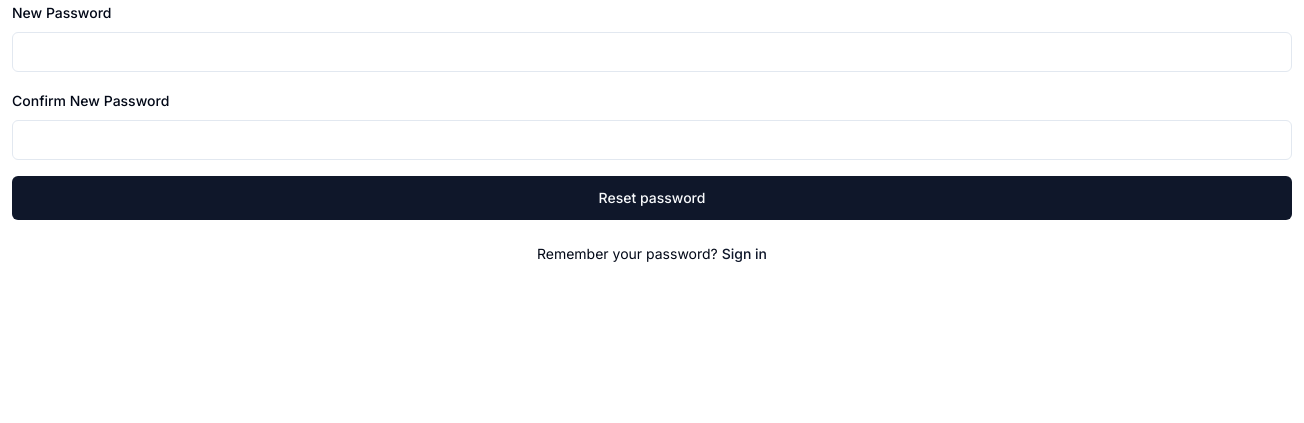
Test case: ResetPasswordForm › Loading State › disables form inputs during submission
Type "NewPassword123!" into the password field with test id "password" at x=652, y=52, box [12,32,1292,72]
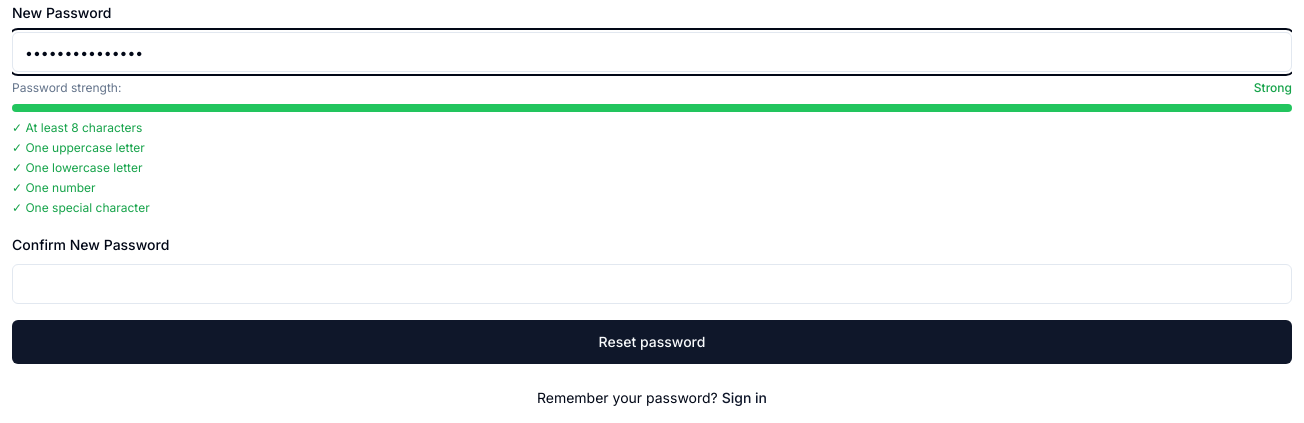
Type "NewPassword123!" into the password field with test id "confirmPassword" at x=652, y=284, box [12,264,1292,304]
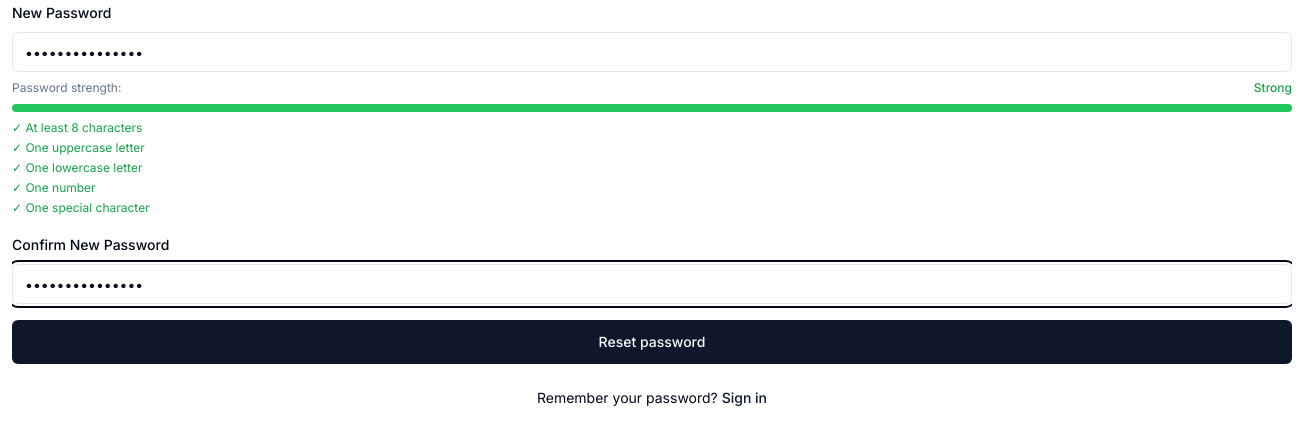
Click the button with test id "reset-password-button" at x=652, y=342, box [12,320,1292,364]
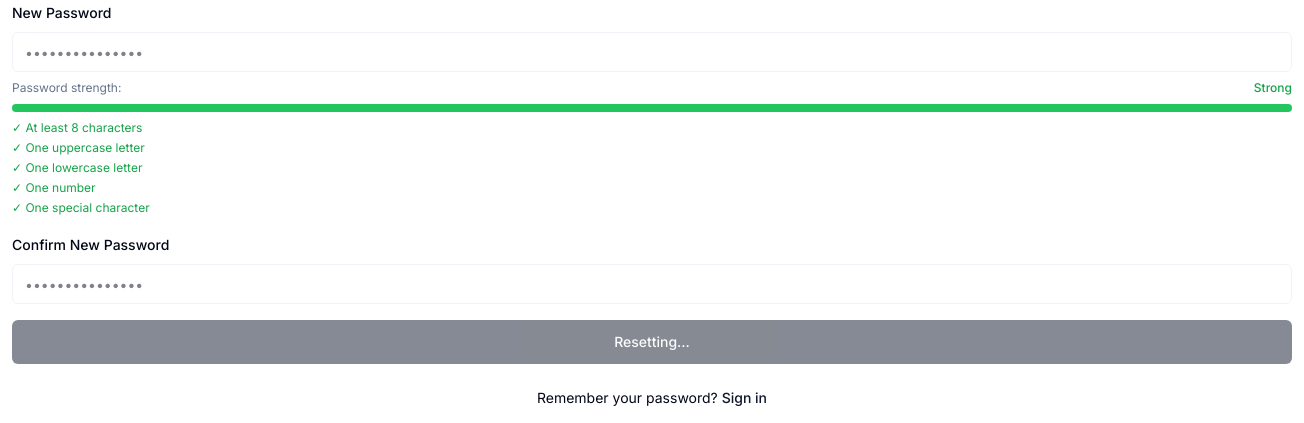
Expected: the password field with test id "password" is disabled, [12,32,1292,72]
Expected: the password field with test id "confirmPassword" is disabled, [12,264,1292,304]
Expected: the button with test id "reset-password-button" is disabled, [12,320,1292,364]
